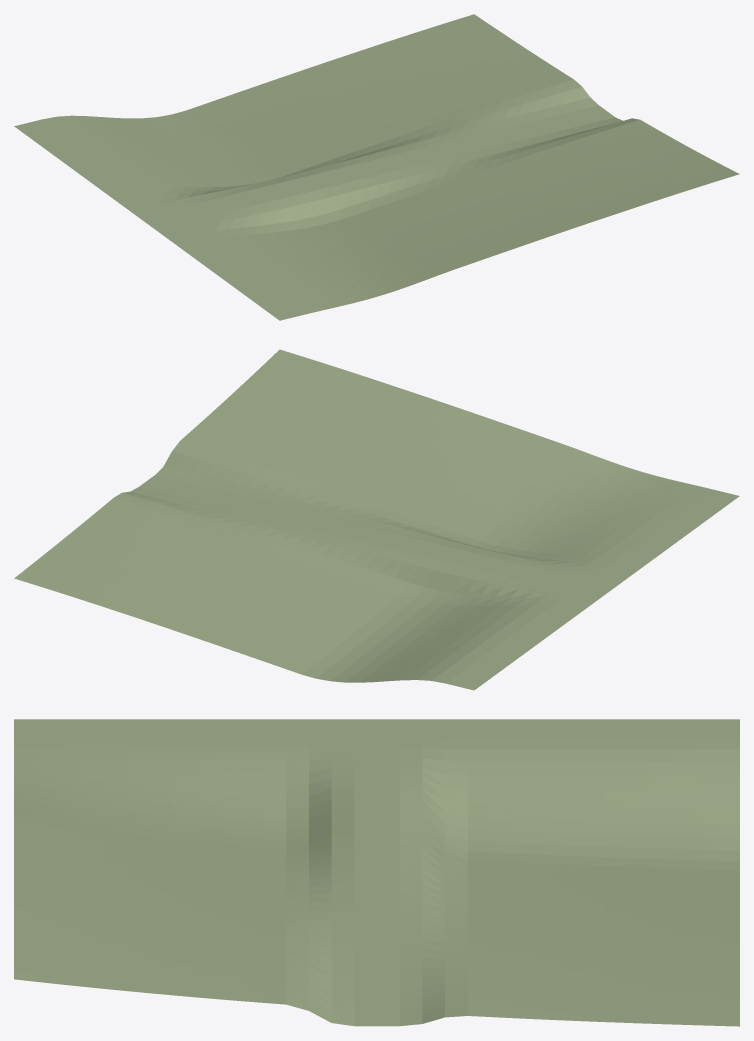
The model's file is valley-14-12.glb.
3 renders of one model, top to bottom at view 1: azimuth 30°, elevation 25°; view 2: azimuth 150°, elevation 25°; view 3: azimuth 270°, elevation 25°, orthographic. The views are drawn at different scales.
Visible parts, largest first — view 1: valley-14-12; view 2: valley-14-12; view 3: valley-14-12.
Part boxes in pixels (x1,y1,x2,y2): valley-14-12: [14, 14, 739, 320]; valley-14-12: [14, 349, 739, 690]; valley-14-12: [14, 719, 739, 1026].
Bounding box in the file's own units: 256 × 32.45 × 256.
